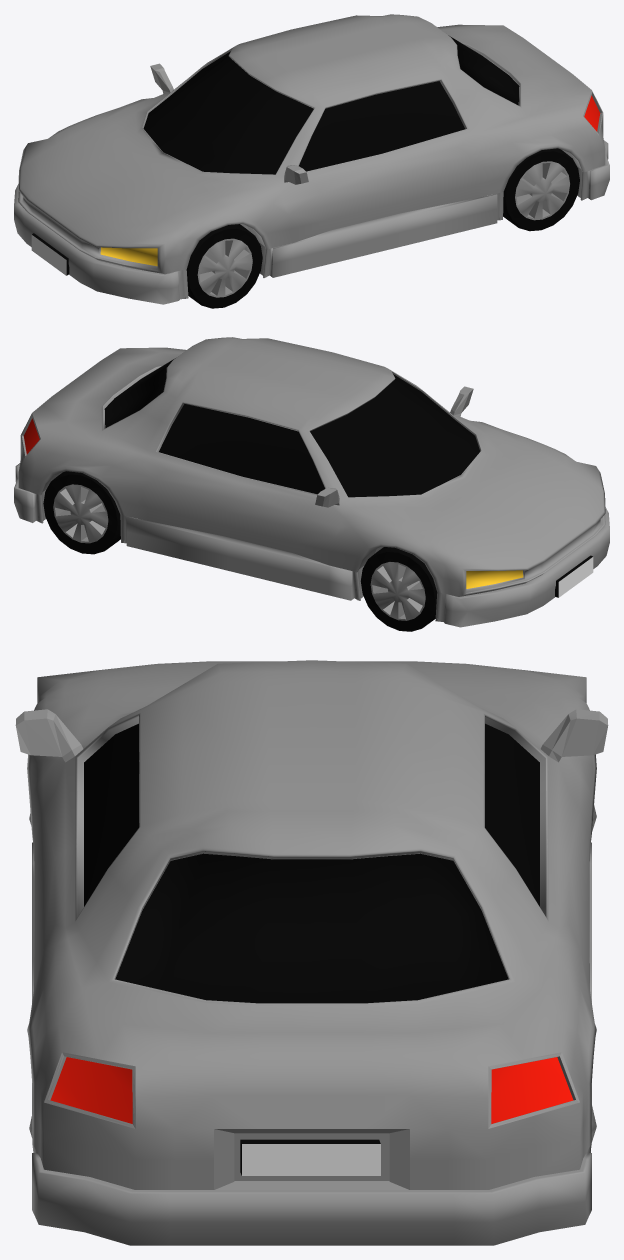
Rendered from bil.FBX.
3 views of the same model, one above another, from view 1: azimuth 30°, elevation 25°; view 2: azimuth 150°, elevation 25°; view 3: azimuth 270°, elevation 25° (orthographic). The views are drawn at different scales.
Parts seen in each view (by area): view 1: Box001; view 2: Box001; view 3: Box001.
Part boxes in pixels (x1=…): Box001: x1=14, y1=14, x2=609, y2=308; Box001: x1=14, y1=337, x2=609, y2=631; Box001: x1=15, y1=660, x2=608, y2=1245.
Size of the model in its own units: 215 by 66.11 by 107.
